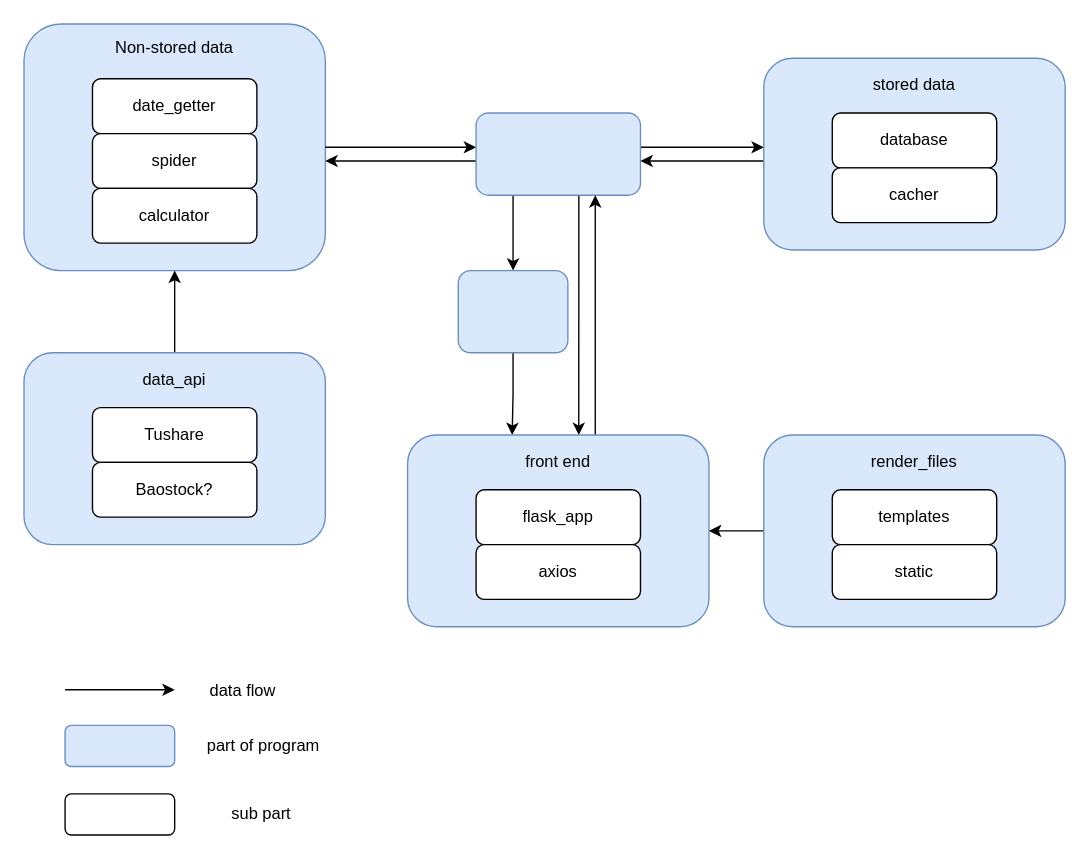
Some shapes in this 1089 by 859 pixel diagram are drawn without their labels. Each missing label, with the centre of its shape:
Dispatcher: (x=557, y=153)
json_trimmer: (x=512, y=311)
